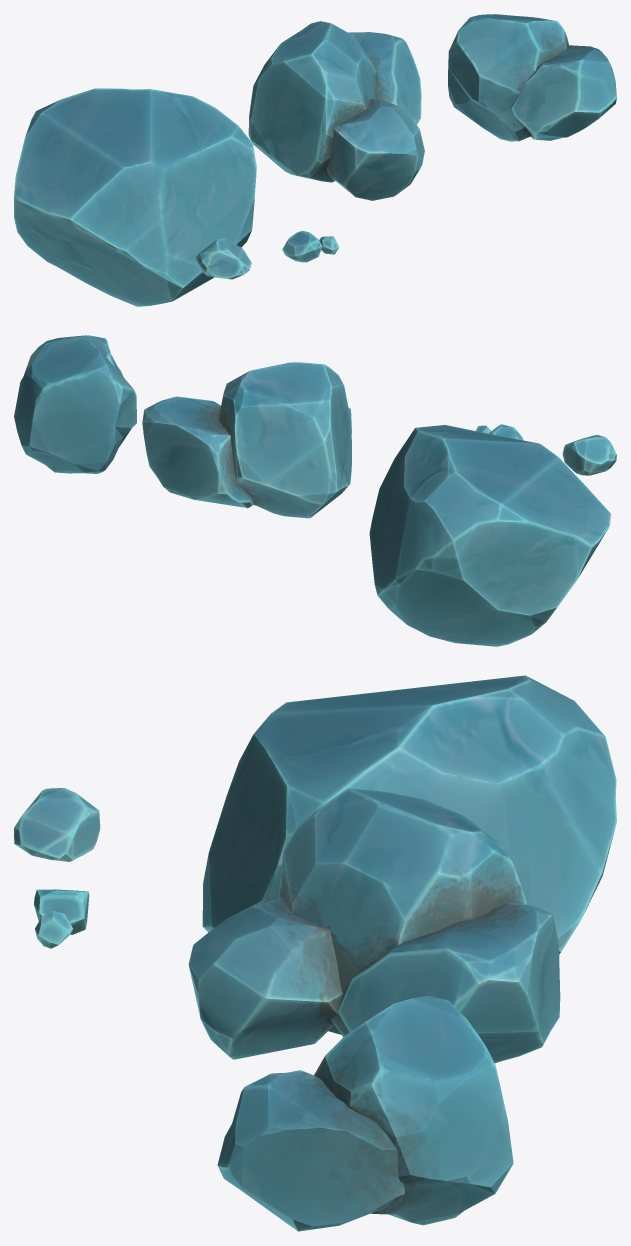
Rendered from rock_underwater.fbx.
The picture shows the model from 3 angles, top to bottom: view 1: azimuth 30°, elevation 25°; view 2: azimuth 150°, elevation 25°; view 3: azimuth 270°, elevation 25°; orthographic projection. The views are drawn at different scales.
Parts seen in each view (by area): view 1: twilight_stone_A_1, twilight_stone_A_2, twilight_stone_A_3, twilight_stone_A_4, twilight_stone_A_5; view 2: twilight_stone_A_1, twilight_stone_A_2, twilight_stone_A_3, twilight_stone_A_4; view 3: twilight_stone_A_2, twilight_stone_A_1, twilight_stone_A_3, twilight_stone_A_4, twilight_stone_A_5.
Boxes of the visible parts, left/top/right/bottom form: twilight_stone_A_1: left=14, top=88, right=256, bottom=306; twilight_stone_A_2: left=248, top=21, right=424, bottom=200; twilight_stone_A_3: left=448, top=14, right=616, bottom=141; twilight_stone_A_4: left=196, top=238, right=251, bottom=279; twilight_stone_A_5: left=282, top=230, right=338, bottom=262; twilight_stone_A_1: left=369, top=425, right=611, bottom=646; twilight_stone_A_2: left=142, top=362, right=351, bottom=518; twilight_stone_A_3: left=14, top=335, right=137, bottom=473; twilight_stone_A_4: left=562, top=434, right=616, bottom=475; twilight_stone_A_2: left=188, top=788, right=560, bottom=1063; twilight_stone_A_1: left=202, top=675, right=616, bottom=1034; twilight_stone_A_3: left=217, top=995, right=513, bottom=1231; twilight_stone_A_4: left=14, top=788, right=100, bottom=861; twilight_stone_A_5: left=34, top=889, right=89, bottom=948.
Bounding box in the file's own units: 821 × 313 × 441.
Materials: 1 (1 with a texture image).
